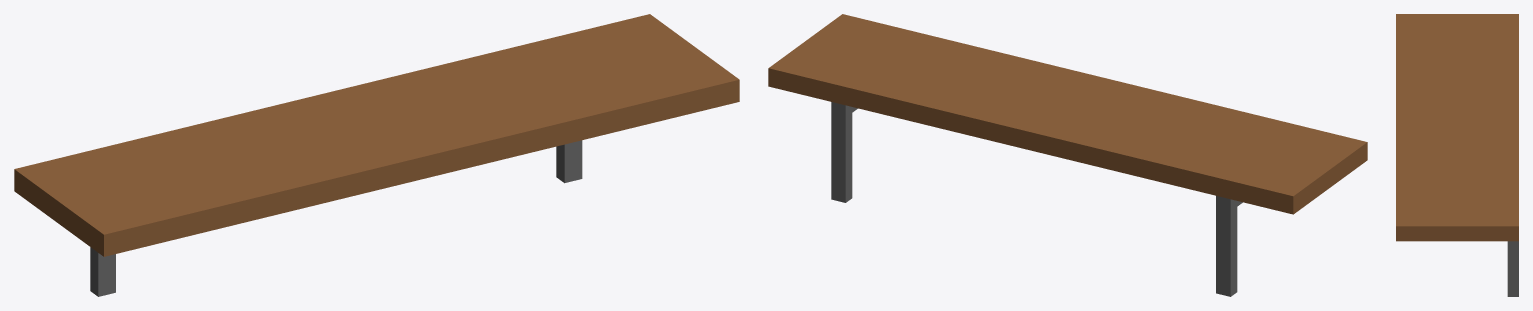
The model's file is wall_shelf.glb.
The picture shows the model from 3 angles, left to right: view 1: azimuth 30°, elevation 25°; view 2: azimuth 150°, elevation 25°; view 3: azimuth 270°, elevation 25°; orthographic projection. The views are drawn at different scales.
Visible parts, largest first — view 1: wall_shelf; view 2: wall_shelf; view 3: wall_shelf.
Part boxes in pixels (x1,y1,x2,y2): wall_shelf: [14, 14, 739, 296]; wall_shelf: [768, 14, 1367, 296]; wall_shelf: [1396, 14, 1518, 296].
Size of the model in its own units: 0.9 by 0.19 by 0.22.
